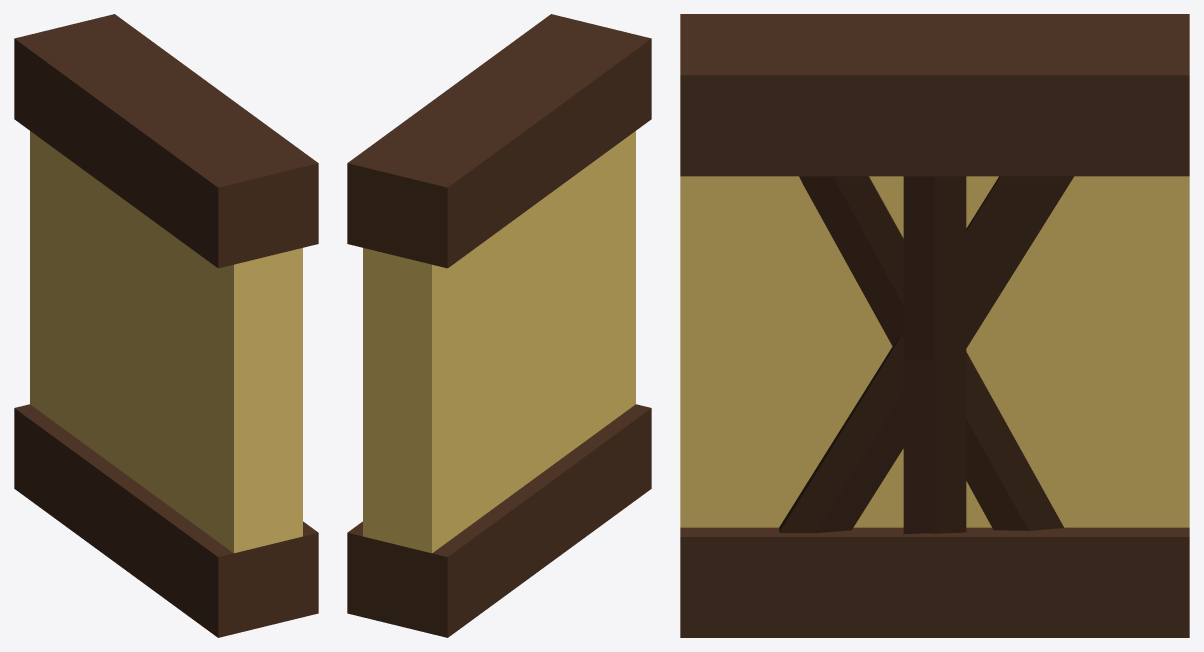
The model's file is Wall_Planks_Diagonal.fbx.
3 renders of one model, left to right at view 1: azimuth 30°, elevation 25°; view 2: azimuth 150°, elevation 25°; view 3: azimuth 270°, elevation 25°, orthographic. The views are drawn at different scales.
Visible parts, largest first — view 1: Wall Planks Diagonal; view 2: Wall Planks Diagonal; view 3: Wall Planks Diagonal.
Boxes of the visible parts, bbox=[...] form: Wall Planks Diagonal: bbox=[14, 14, 318, 637]; Wall Planks Diagonal: bbox=[347, 14, 651, 637]; Wall Planks Diagonal: bbox=[680, 14, 1189, 637].
Size of the model in its own units: 56.9 by 244 by 200.
